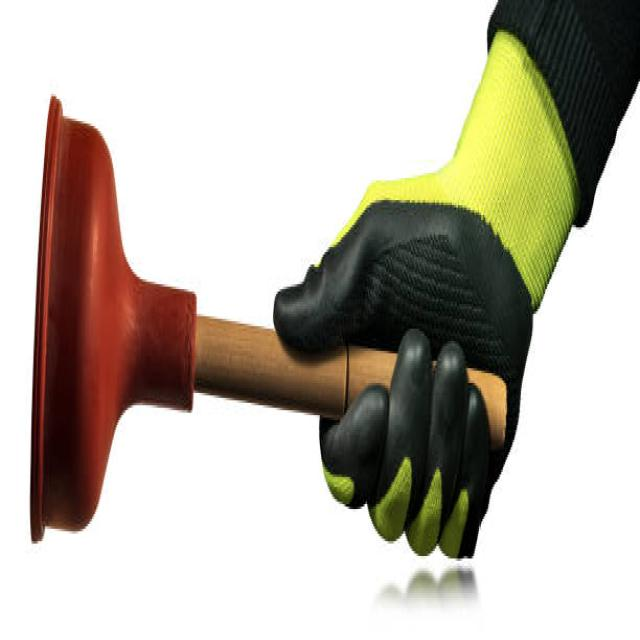Gloves: (271, 25, 581, 544)
